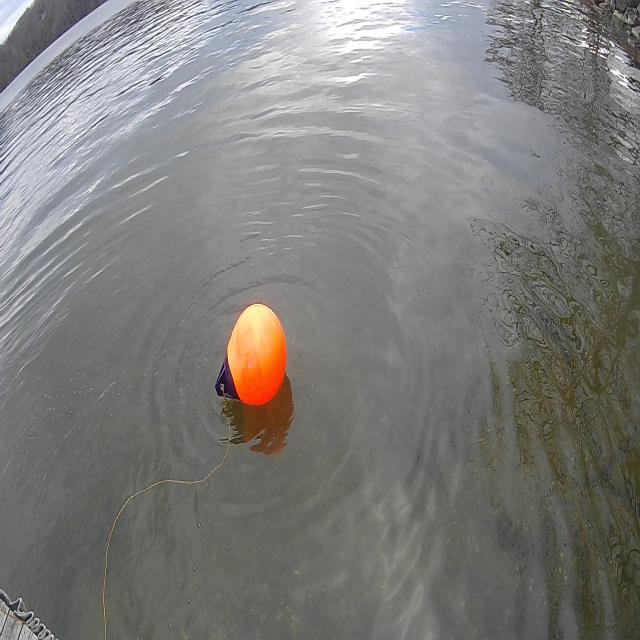Buoy: (225, 301, 291, 414)
